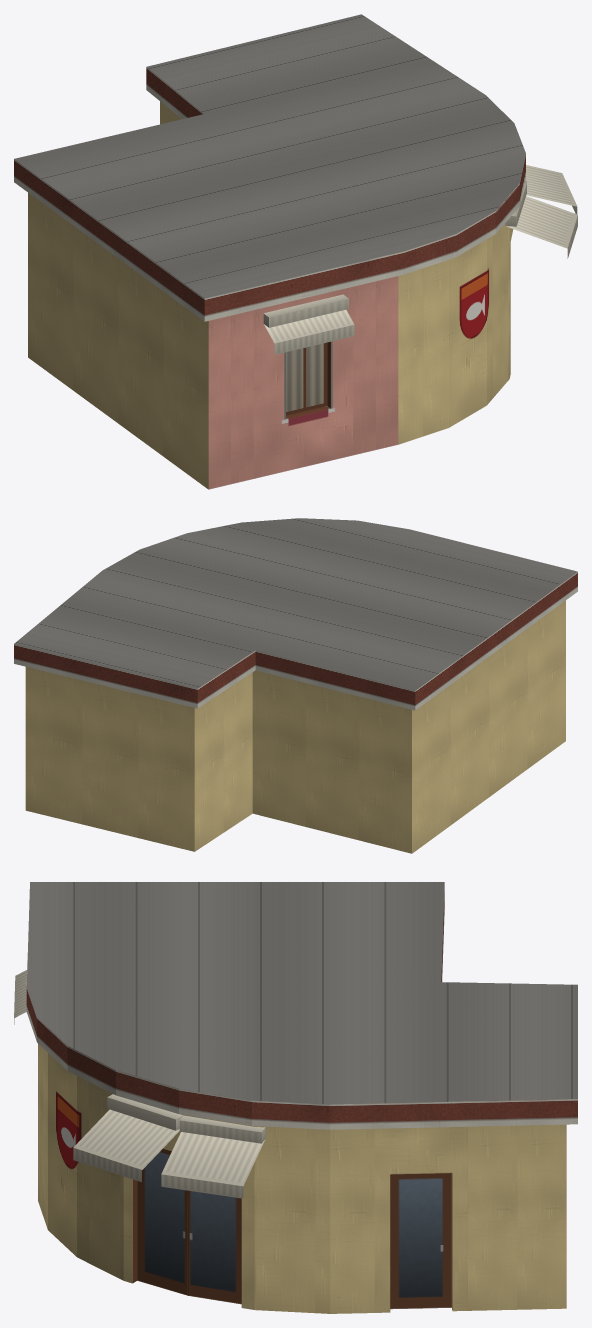
File: SM_Molo_Edificio_A1A2_LOD1.fbx
3 views of the same model, one above another, from view 1: azimuth 30°, elevation 25°; view 2: azimuth 150°, elevation 25°; view 3: azimuth 270°, elevation 25° (orthographic). The views are drawn at different scales.
Parts seen in each view (by area): view 1: SM_Molo_Edificio_A1A2_LOD1; view 2: SM_Molo_Edificio_A1A2_LOD1; view 3: SM_Molo_Edificio_A1A2_LOD1.
Part boxes in pixels (box(x1,y1,x2,y2)): SM_Molo_Edificio_A1A2_LOD1: box(14, 14, 577, 489); SM_Molo_Edificio_A1A2_LOD1: box(14, 518, 577, 853); SM_Molo_Edificio_A1A2_LOD1: box(14, 882, 577, 1313).
Size of the model in its own units: 919 by 907 by 380.
1 material, 1 textured.
